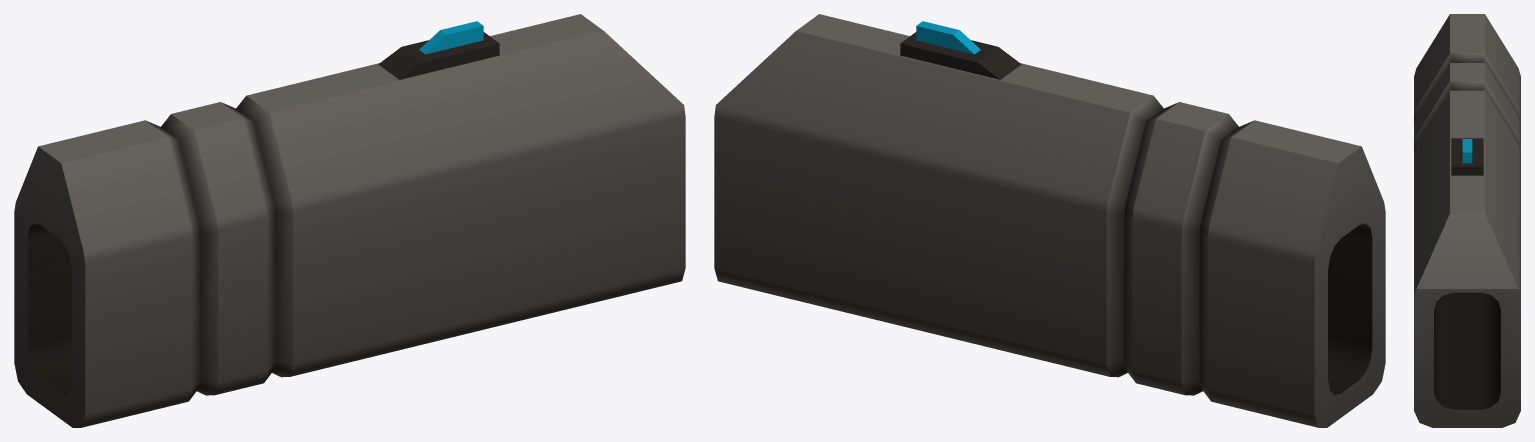
Rendered from Muzzle_Caliber2_06.fbx.
3 views of the same model, side by side, from view 1: azimuth 30°, elevation 25°; view 2: azimuth 150°, elevation 25°; view 3: azimuth 270°, elevation 25° (orthographic). The views are drawn at different scales.
Parts seen in each view (by area): view 1: Muzzle_Caliber2_06; view 2: Muzzle_Caliber2_06; view 3: Muzzle_Caliber2_06.
Boxes of the visible parts, box(x1,y1,x2,y2) form: Muzzle_Caliber2_06: box(14, 14, 685, 427); Muzzle_Caliber2_06: box(714, 14, 1385, 427); Muzzle_Caliber2_06: box(1414, 14, 1520, 427).
Size of the model in its own units: 20.71 by 9.31 by 4.24.
